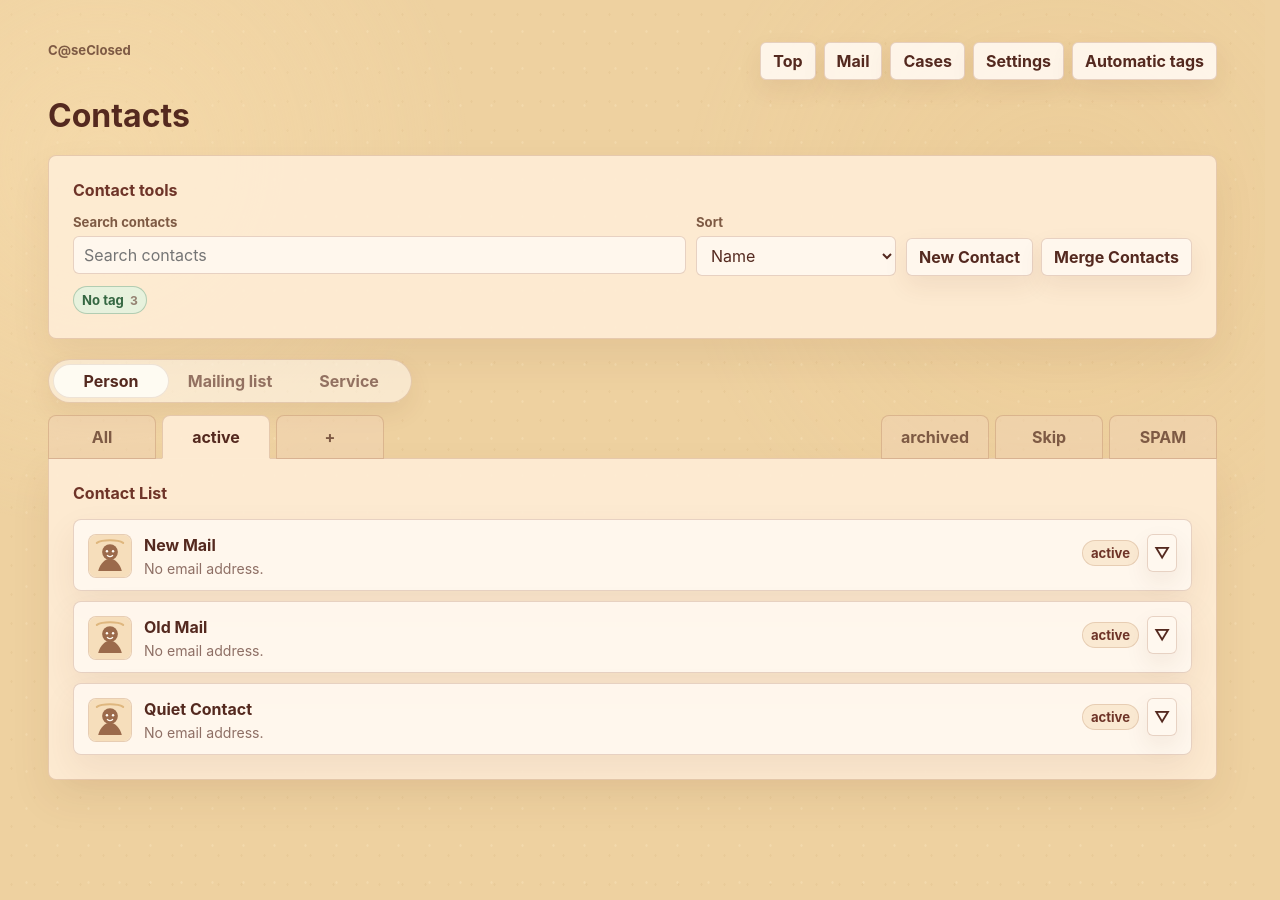
Phase 3 contacts screen › shows the reference value used by contact sort modes
This screenshot has width=1280, height=900.
Expected: the heading "New Mail" is shown, left=144, top=535, right=216, bottom=555
Step 1. Select "Latest mail" in the dropdown named "Sort contacts" → (796, 256), box left=696, top=236, right=896, bottom=276
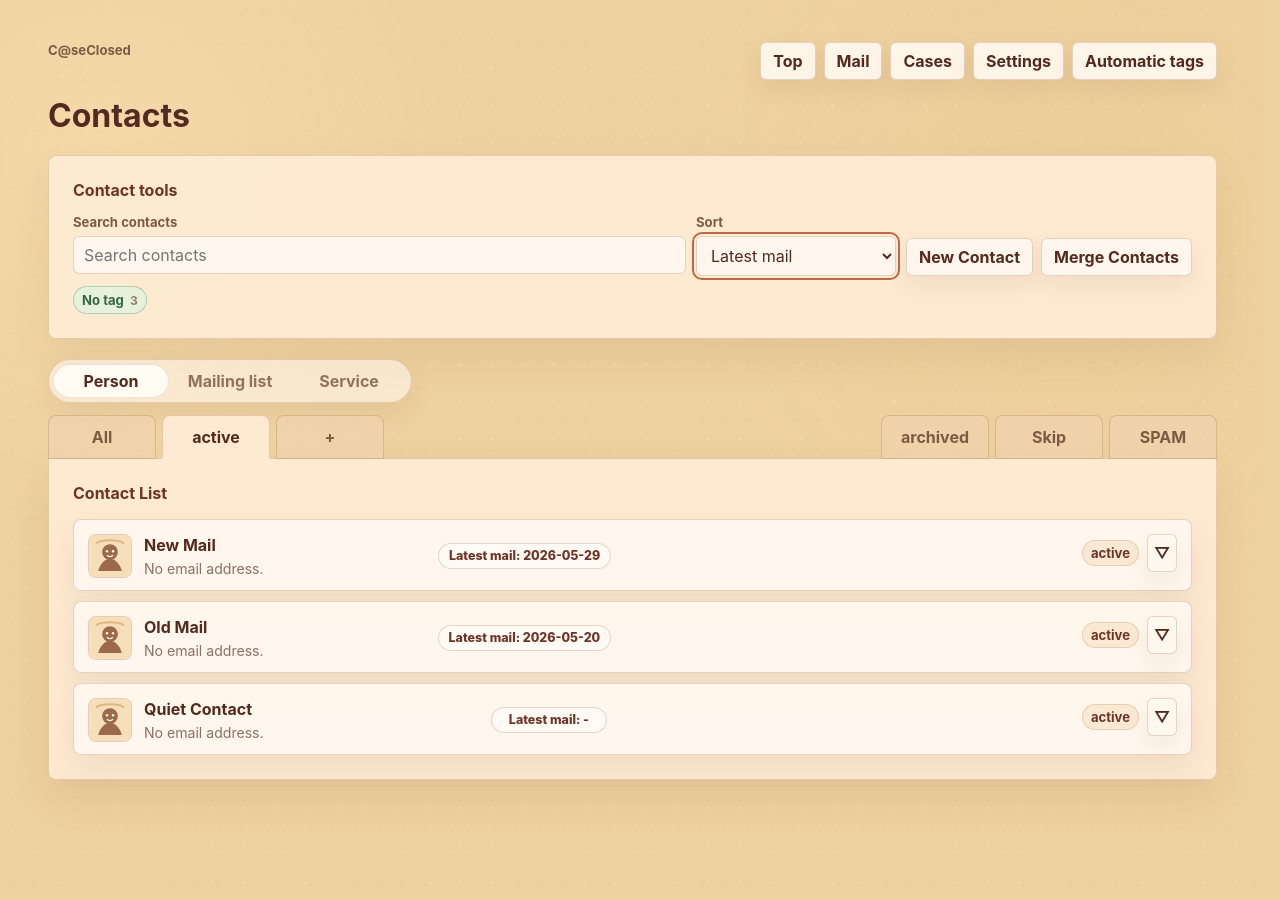
Now the text "Latest mail: 2026-05-29" is shown, box left=438, top=543, right=611, bottom=569
Now the text "Latest mail: 2026-05-20" is shown, box left=438, top=625, right=611, bottom=651
Now the text "Latest mail: -" is shown, box left=491, top=707, right=607, bottom=733
Step 2. Select "Most mail received" in the dropdown named "Sort contacts" → (796, 256), box left=696, top=236, right=896, bottom=276
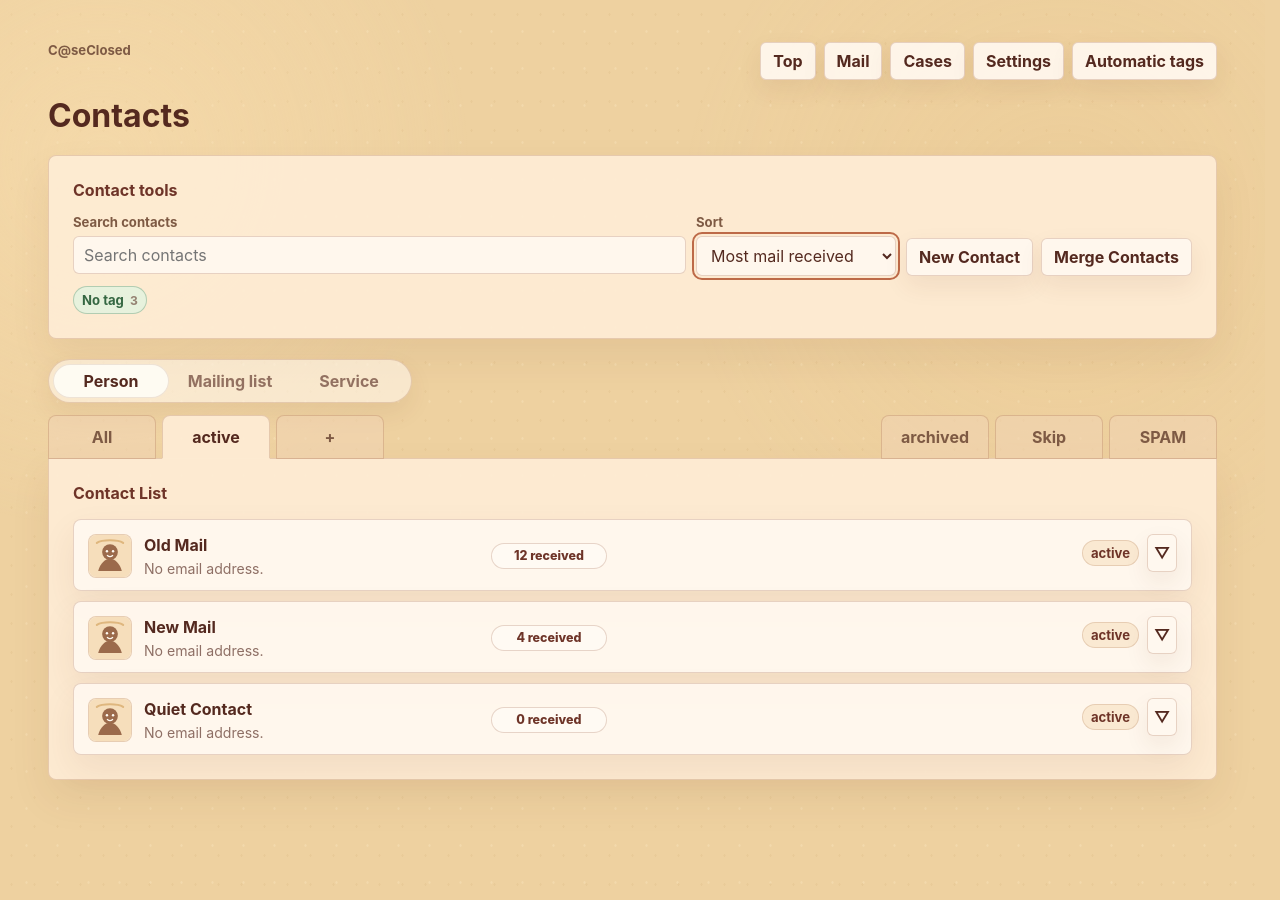
Now the text "12 received" is shown, box left=491, top=543, right=607, bottom=569
Now the text "4 received" is shown, box left=491, top=625, right=607, bottom=651
Now the text "0 received" is shown, box left=491, top=707, right=607, bottom=733
